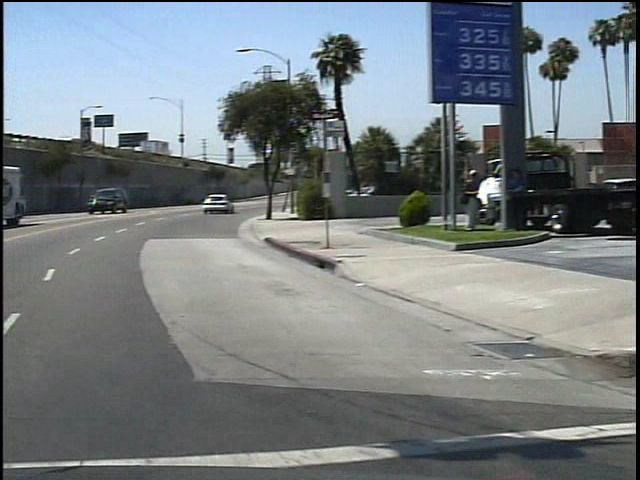person: (448, 165, 476, 233)
